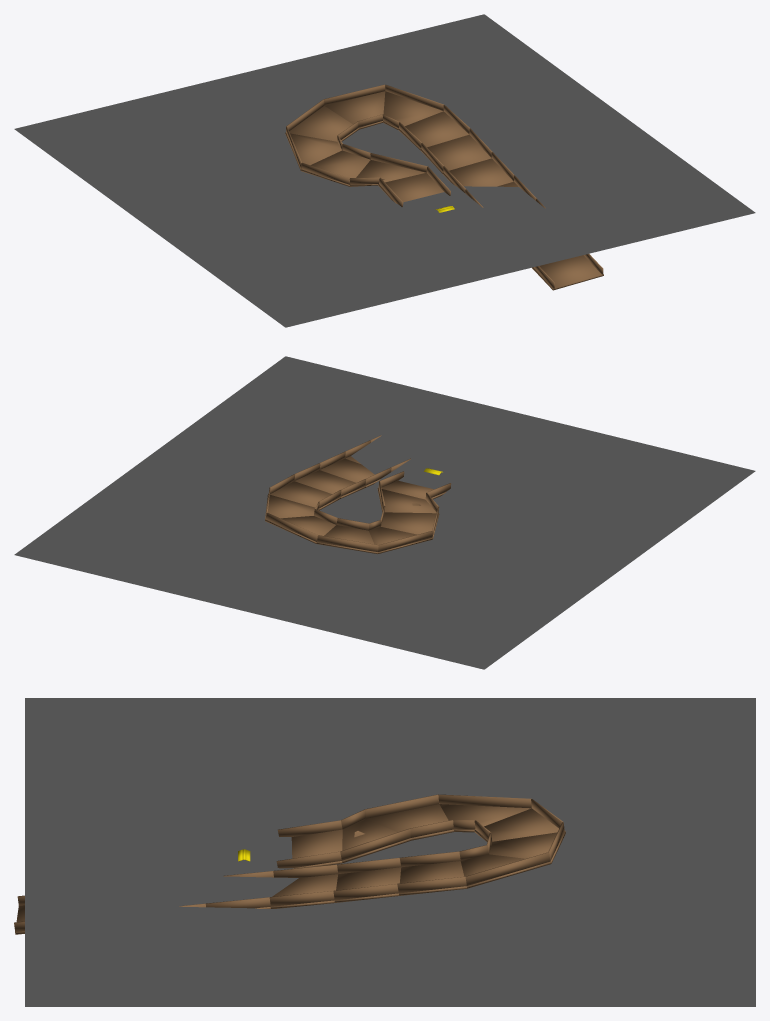
Rendered from joined.gltf.
3 views of the same model, one above another, from view 1: azimuth 30°, elevation 25°; view 2: azimuth 150°, elevation 25°; view 3: azimuth 270°, elevation 25° (orthographic). The views are drawn at different scales.
Visible parts, largest first — view 1: Plane; view 2: Plane; view 3: Plane.
Part boxes in pixels (x1,y1,x2,y2): Plane: (14,14,755,327); Plane: (14,356,755,669); Plane: (14,698,755,1006).
Bounding box in the file's own units: 147 × 16.4 × 149.
